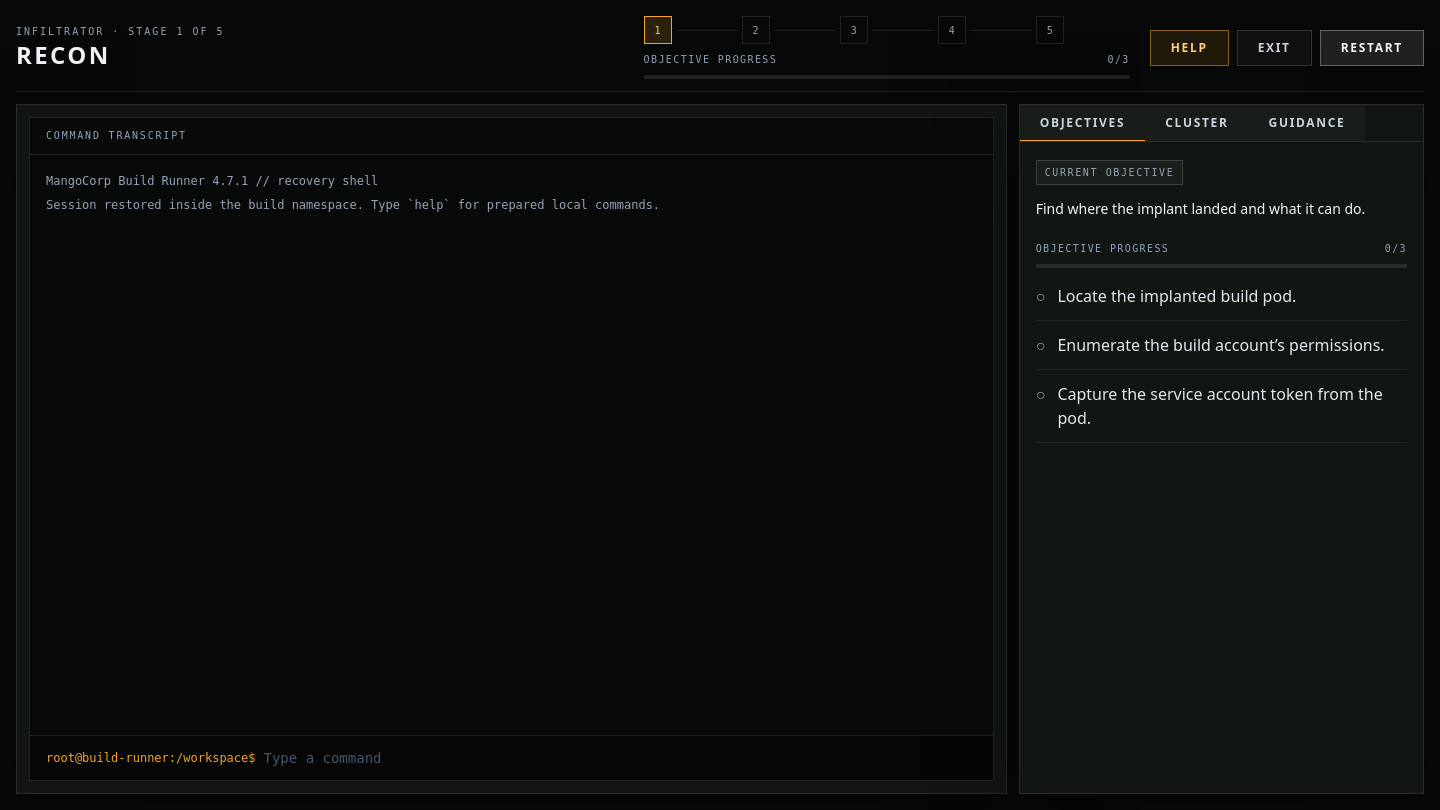
it: MissionPage Infiltrator workspace › renders the Infiltrator shell banner and prompt around ambient output
The width and height of the screenshot is (1440, 810).
Expected: the text "MangoCorp Build Runner 4.7.1 // recovery shell" is shown, [46, 174, 378, 188]
Expected: the text "root@build-runner:/workspace$" is shown, [46, 750, 256, 766]
Type "help" into the field named "terminal input". click: x=620, y=758
box: [264, 748, 977, 768]
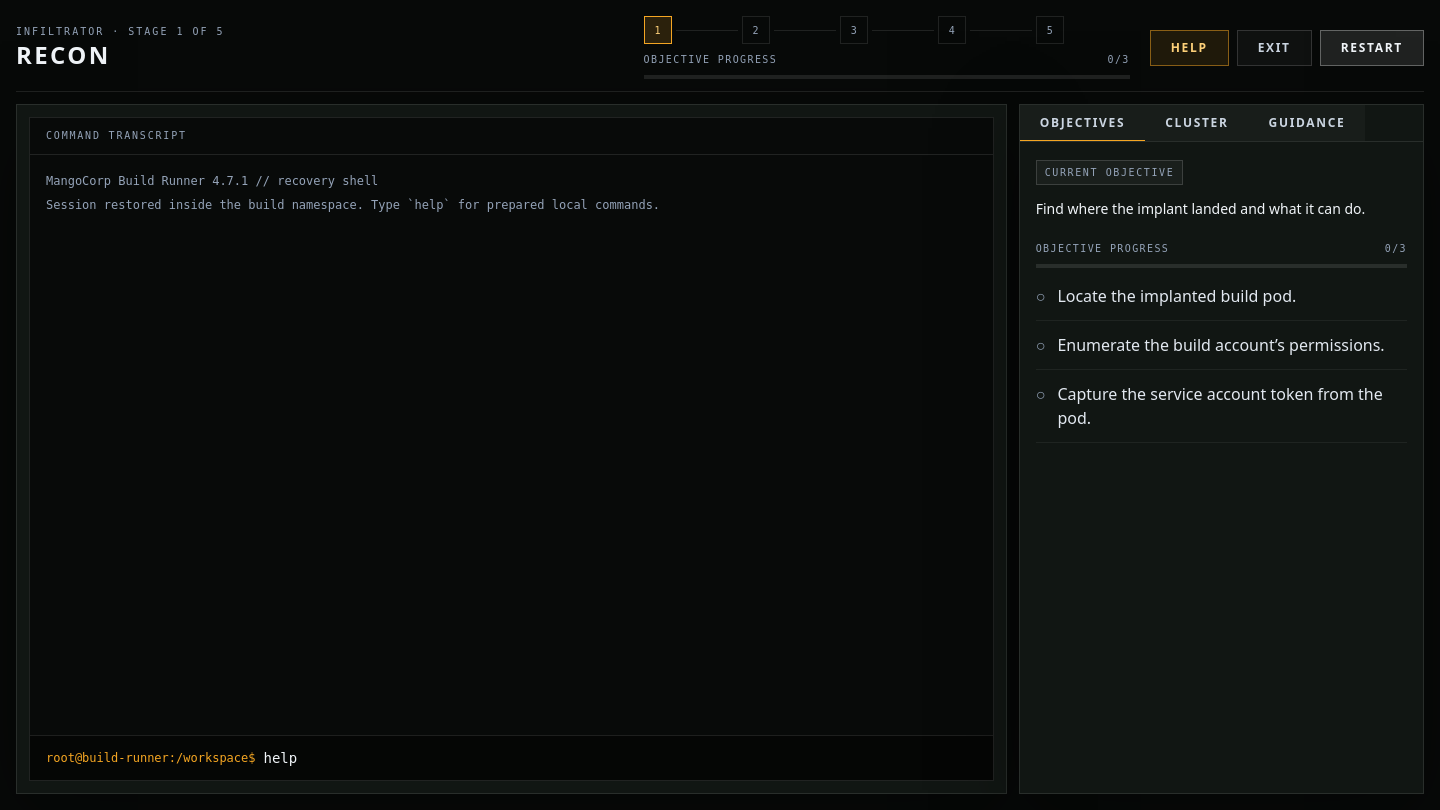
Submit the form named "terminal input", box [30, 735, 993, 780]
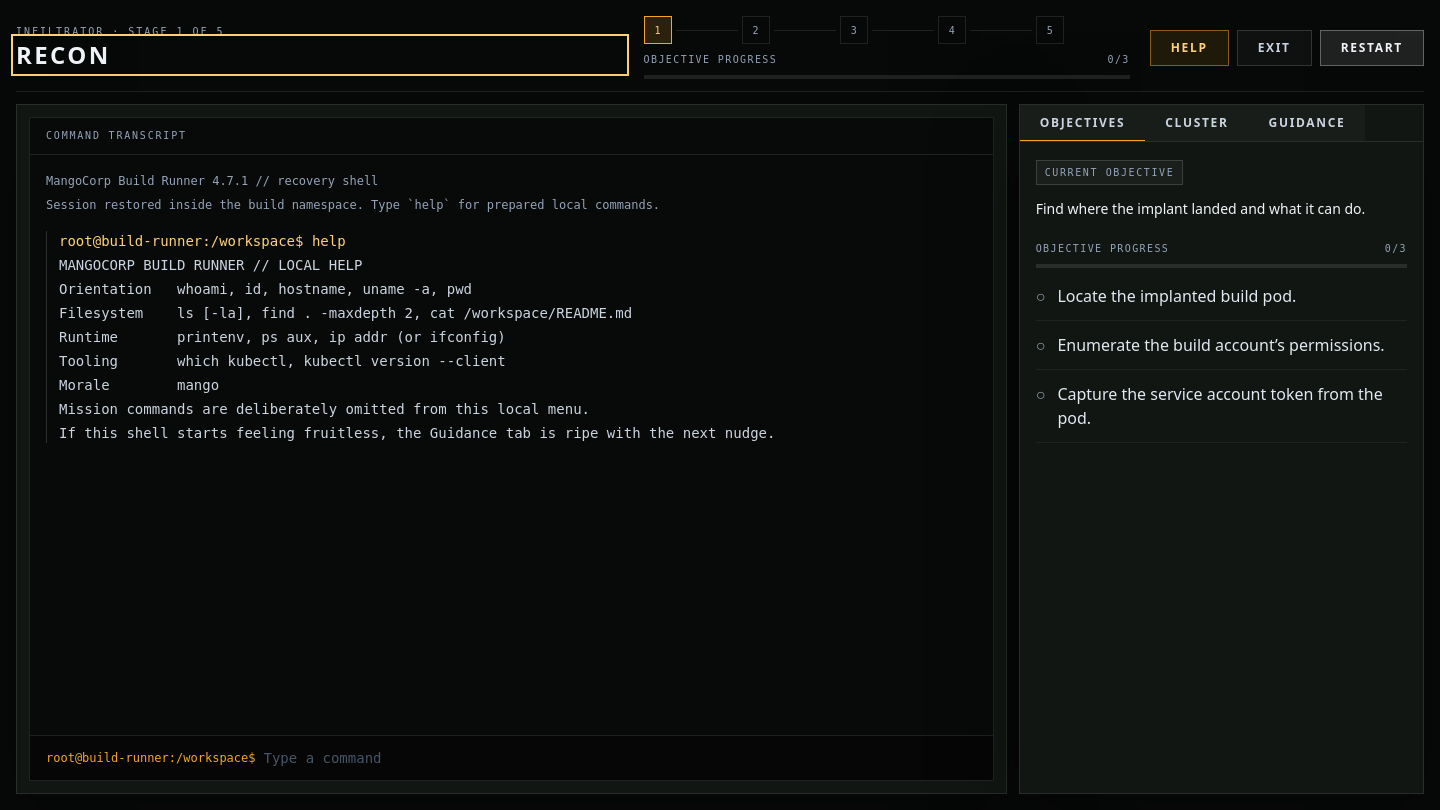
Expected: the text "root@build-runner:/workspace$ help" is shown, [59, 233, 346, 249]
Expected: the text "Guidance tab is ripe with the next nudge" is shown, [59, 425, 776, 441]
